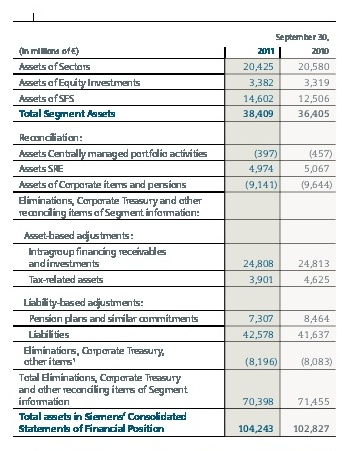table: (0, 0, 355, 451)
